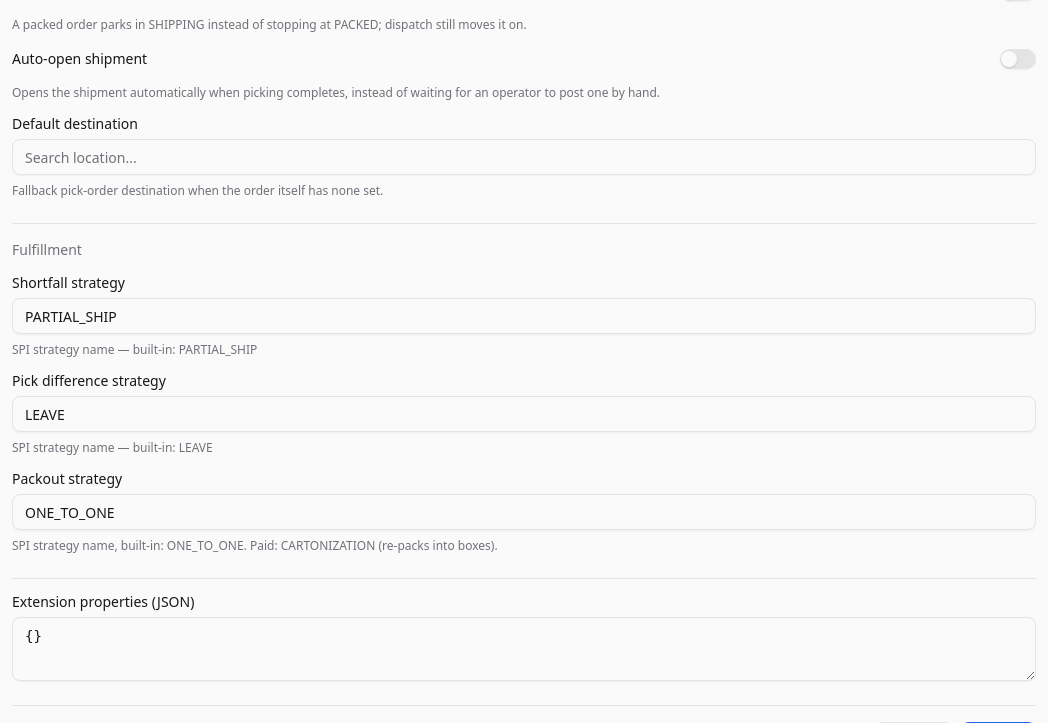
Test: OrderStrategyForm › shows a lock badge on CARTONIZATION when the cartonization entitlement is missing
This screenshot has width=1048, height=723.
(page scrolled)
Replace the text in the field labelled "Packout strategy" with "CARTONIZATION" at {"x": 524, "y": 512}, box [12, 494, 1036, 530]
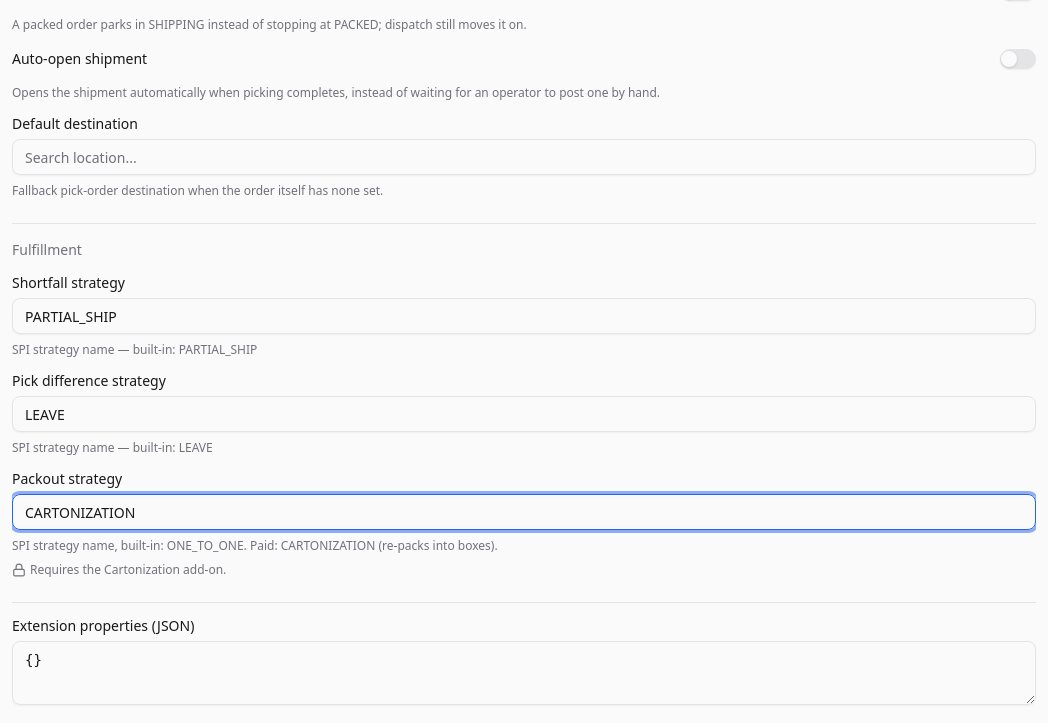
Expected: the element with test id "packout-cartonization-locked" is shown, [12, 561, 226, 578]
